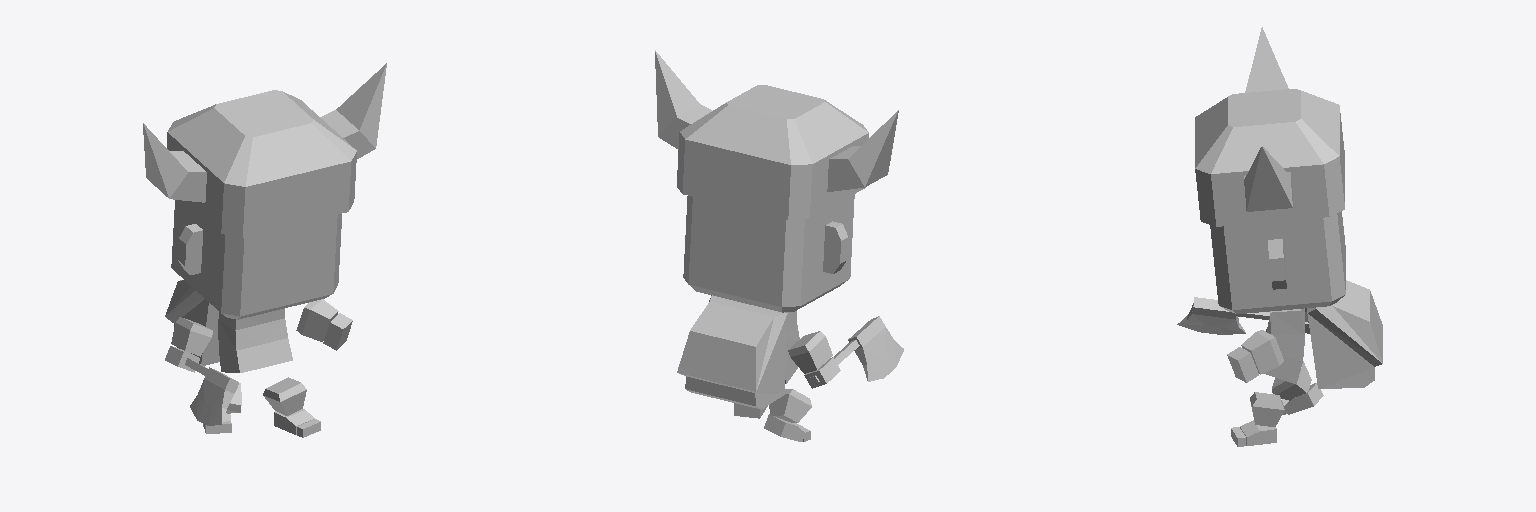
Rendered from mini_knight_000027.obj.
The picture shows the model from 3 angles: view 1: azimuth 30°, elevation 25°; view 2: azimuth 150°, elevation 25°; view 3: azimuth 270°, elevation 25°; orthographic projection.
Parts seen in each view (by area): view 1: cap_Object01_Material__3, Mesh_objheadusOBJexport_Material, back_Object03_Material__3, axe_Object02_Material__3; view 2: cap_Object01_Material__3, Mesh_objheadusOBJexport_Material, back_Object03_Material__3, axe_Object02_Material__3; view 3: cap_Object01_Material__3, Mesh_objheadusOBJexport_Material, back_Object03_Material__3, axe_Object02_Material__3.
Part boxes in pixels (left/top/right/bottom): cap_Object01_Material__3: left=143, top=63, right=386, bottom=237; Mesh_objheadusOBJexport_Material: left=165, top=200, right=352, bottom=437; back_Object03_Material__3: left=165, top=280, right=219, bottom=365; axe_Object02_Material__3: left=185, top=358, right=238, bottom=425; cap_Object01_Material__3: left=655, top=50, right=898, bottom=219; Mesh_objheadusOBJexport_Material: left=683, top=194, right=854, bottom=441; back_Object03_Material__3: left=677, top=295, right=787, bottom=409; axe_Object02_Material__3: left=810, top=316, right=903, bottom=383; cap_Object01_Material__3: left=1195, top=27, right=1344, bottom=226; Mesh_objheadusOBJexport_Material: left=1210, top=211, right=1345, bottom=446; back_Object03_Material__3: left=1307, top=280, right=1382, bottom=388; axe_Object02_Material__3: left=1177, top=297, right=1269, bottom=334.
Bounding box in the file's own units: 1.94 × 2.58 × 1.41.